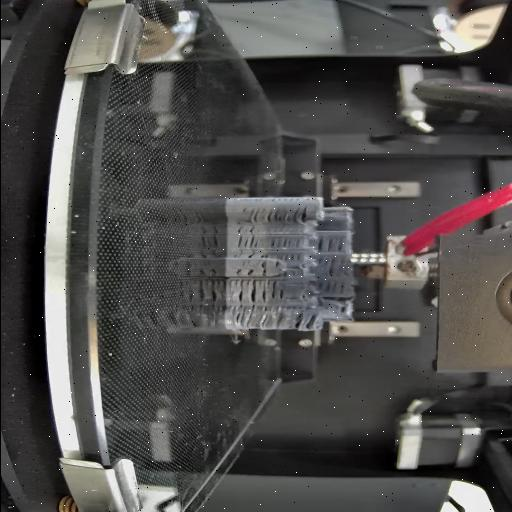cracks: (232, 304, 284, 328), (242, 205, 308, 223), (230, 280, 266, 302), (232, 224, 262, 250), (290, 306, 314, 330), (314, 257, 344, 276), (316, 234, 346, 252), (317, 279, 345, 296), (268, 236, 300, 248), (269, 281, 287, 299), (256, 252, 268, 276), (280, 269, 304, 278), (279, 253, 303, 261), (232, 252, 254, 258), (335, 304, 347, 314), (234, 268, 253, 274), (270, 260, 278, 268)
